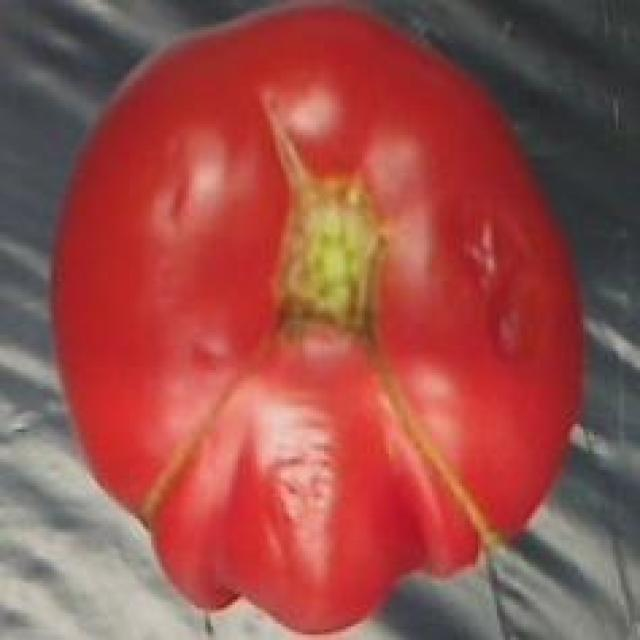overripe tomato: (32, 0, 608, 640)
